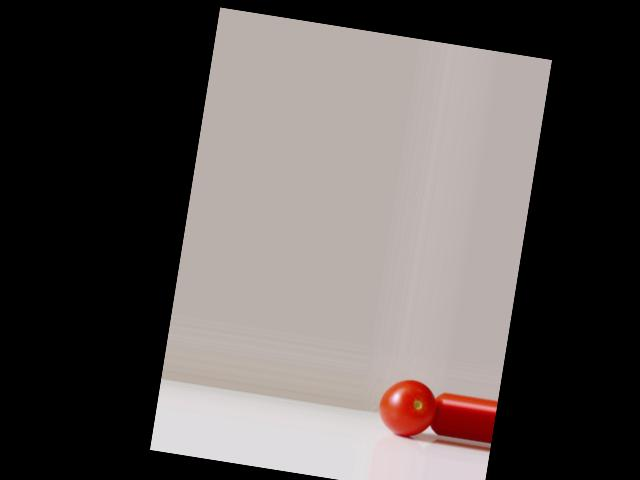tomato: (375, 375, 439, 439)
